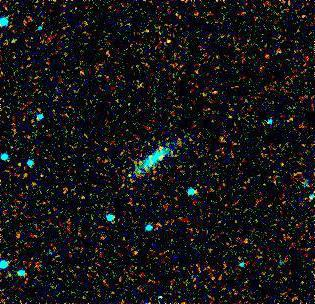star: (159, 25, 189, 55)
